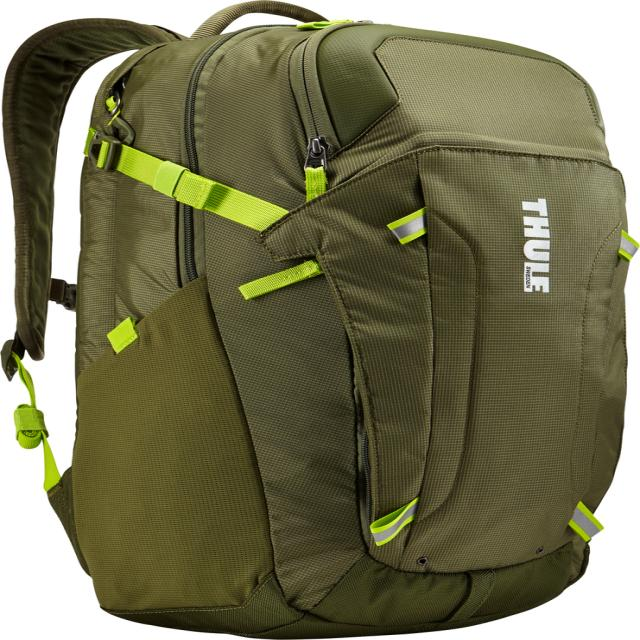backpack: (8, 1, 630, 640)
